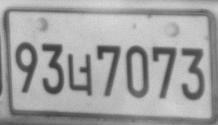0: (125, 44, 149, 98)
3: (180, 46, 206, 101), (40, 42, 64, 95)
7: (151, 45, 176, 99), (96, 44, 120, 97)
9: (14, 40, 38, 94)
너: (67, 52, 93, 97)
